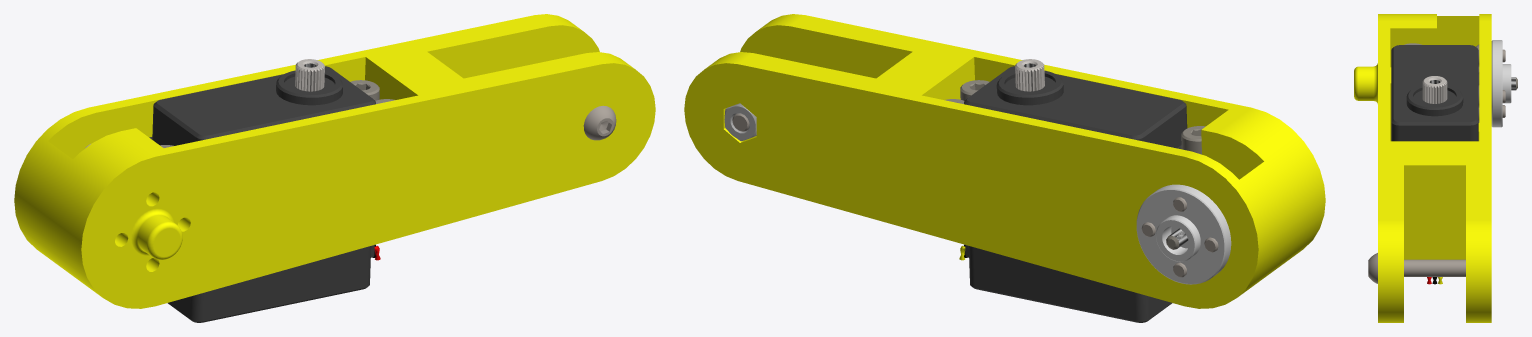
The picture shows the model from 3 angles, left to right: view 1: azimuth 30°, elevation 25°; view 2: azimuth 150°, elevation 25°; view 3: azimuth 270°, elevation 25°; orthographic projection. The views are drawn at different scales.
Parts seen in each view (by area): view 1: mesh 5 L2 joint-1/L - Leg1-1, mesh 7 L2 joint-1/M4 Nut DIN 934-6, mesh 1 L2 joint-1/M4 x 26 ISO 7380-1, mesh 8 L2 joint-1/M3 x 6 DIN 912-1; view 2: mesh 5 L2 joint-1/L - Leg1-1, mesh 7 L2 joint-1/M4 Nut DIN 934-6, mesh 6 L2 joint-1/M4 x 16 DIN 912-8, mesh 4 Chamfer1 face, mesh 1 L2 joint-1/M4 x 26 ISO 7380-1, mesh 8 L2 joint-1/M3 x 6 DIN 912-1, mesh 2 L2 joint-1/M4 Nut DIN 934-13; view 3: mesh 5 L2 joint-1/L - Leg1-1, mesh 7 L2 joint-1/M4 Nut DIN 934-6, mesh 1 L2 joint-1/M4 x 26 ISO 7380-1, mesh 6 L2 joint-1/M4 x 16 DIN 912-8, mesh 8 L2 joint-1/M3 x 6 DIN 912-1.
Boxes of the visible parts, x1,y1,x2,y2 form: mesh 5 L2 joint-1/L - Leg1-1: [14, 14, 655, 308]; mesh 7 L2 joint-1/M4 Nut DIN 934-6: [149, 66, 375, 322]; mesh 1 L2 joint-1/M4 x 26 ISO 7380-1: [85, 105, 616, 148]; mesh 8 L2 joint-1/M3 x 6 DIN 912-1: [295, 59, 324, 91]; mesh 5 L2 joint-1/L - Leg1-1: [684, 14, 1325, 308]; mesh 7 L2 joint-1/M4 Nut DIN 934-6: [964, 66, 1187, 322]; mesh 6 L2 joint-1/M4 x 16 DIN 912-8: [1136, 184, 1231, 284]; mesh 4 Chamfer1 face: [944, 80, 1205, 249]; mesh 1 L2 joint-1/M4 x 26 ISO 7380-1: [732, 113, 1218, 277]; mesh 8 L2 joint-1/M3 x 6 DIN 912-1: [1015, 59, 1044, 91]; mesh 2 L2 joint-1/M4 Nut DIN 934-13: [724, 103, 756, 141]; mesh 5 L2 joint-1/L - Leg1-1: [1354, 14, 1491, 322]; mesh 7 L2 joint-1/M4 Nut DIN 934-6: [1391, 45, 1478, 141]; mesh 1 L2 joint-1/M4 x 26 ISO 7380-1: [1368, 44, 1505, 283]; mesh 6 L2 joint-1/M4 x 16 DIN 912-8: [1491, 40, 1511, 127]; mesh 8 L2 joint-1/M3 x 6 DIN 912-1: [1422, 76, 1447, 103].
Size of the model in its own units: 0.1285 by 0.0459 by 0.0375.
Materials: 12 (1 with a texture image).
